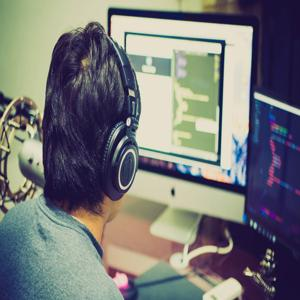Headphones: (38, 18, 142, 202)
